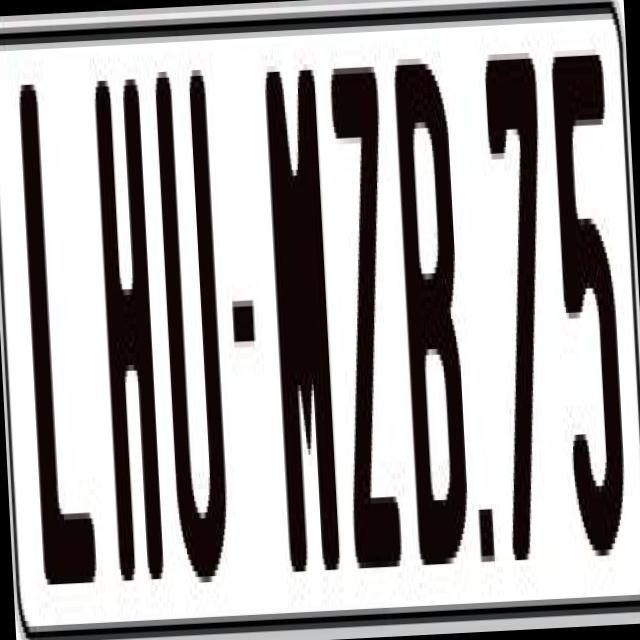5: (547, 55, 630, 592)
7: (482, 46, 564, 578)
B: (391, 57, 476, 565)
H: (92, 68, 168, 592)
L: (15, 65, 100, 597)
M: (262, 52, 345, 590)
U: (153, 70, 238, 584)
Z: (327, 61, 403, 568)
